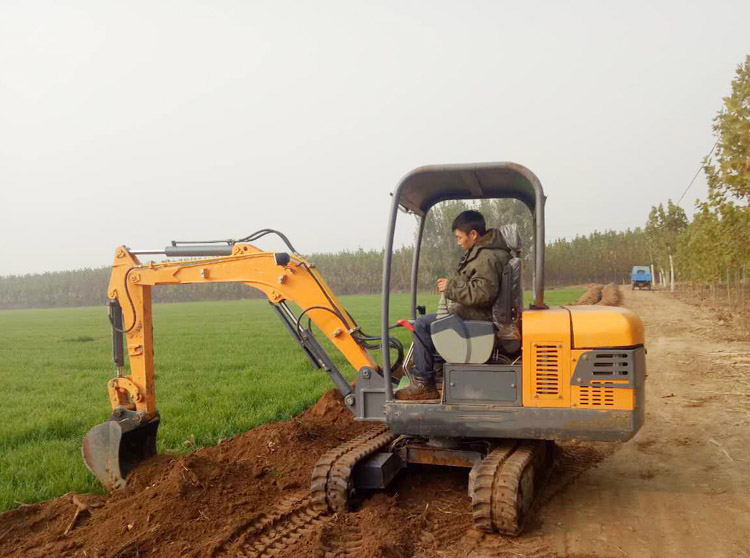excavator: (77, 160, 676, 548)
